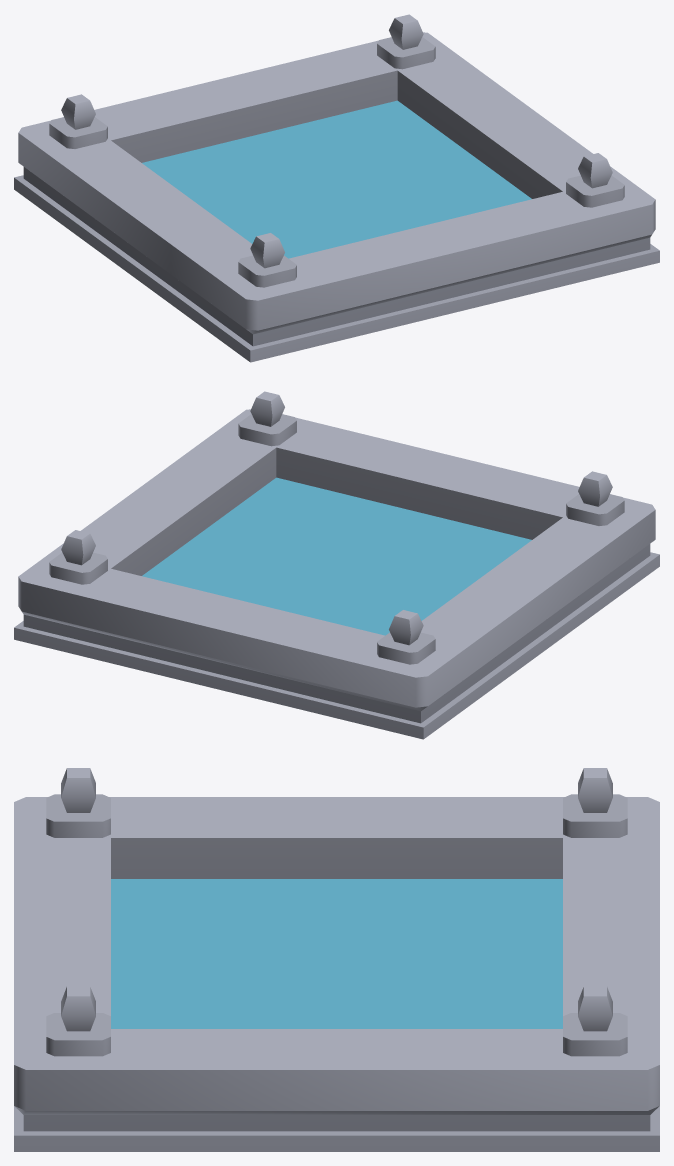
The model's file is fountain-square.glb.
The picture shows the model from 3 angles, top to bottom: view 1: azimuth 30°, elevation 25°; view 2: azimuth 150°, elevation 25°; view 3: azimuth 270°, elevation 25°; orthographic projection. The views are drawn at different scales.
Parts seen in each view (by area): view 1: fountain-square; view 2: fountain-square; view 3: fountain-square.
Part boxes in pixels (left/top/right/bottom): fountain-square: left=14, top=14, right=659, bottom=362; fountain-square: left=14, top=391, right=659, bottom=739; fountain-square: left=14, top=768, right=659, bottom=1151.
Size of the model in its own units: 2 by 0.4552 by 2.
